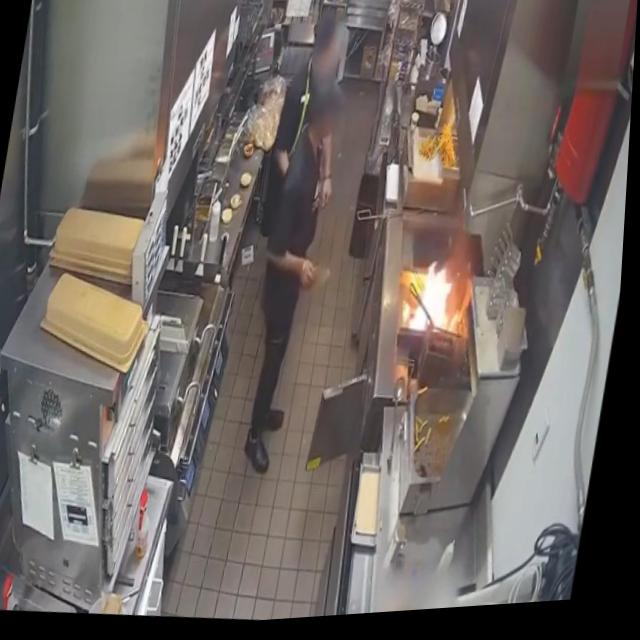fire: (405, 259, 472, 345)
